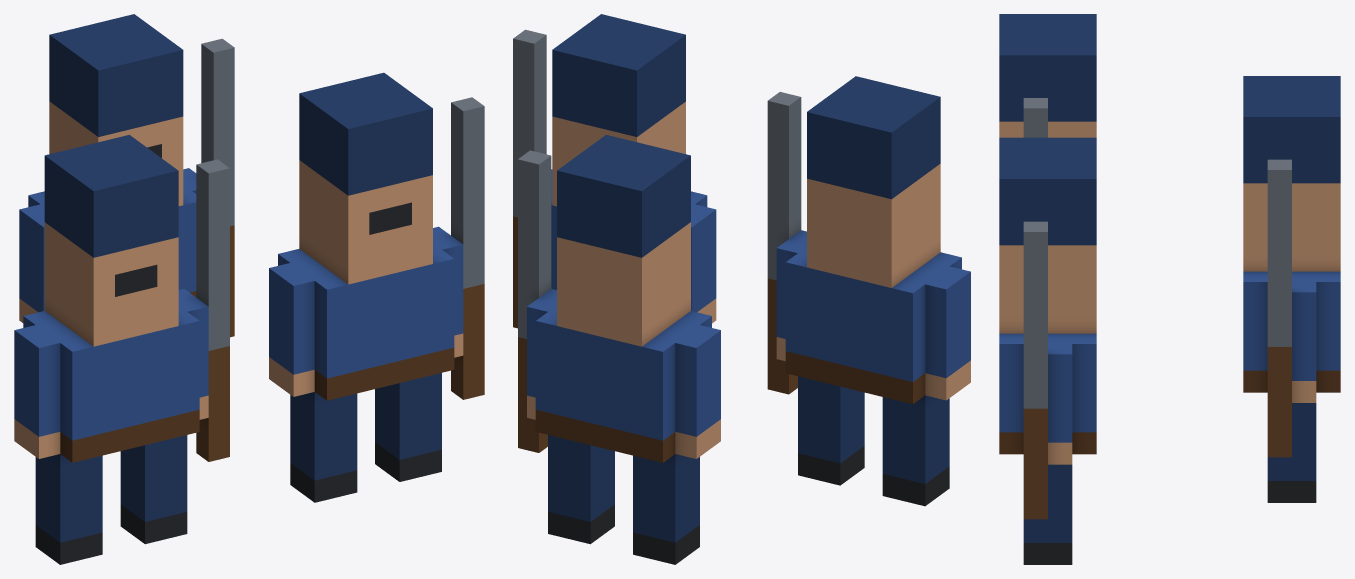
The model's file is u_rifle.glb.
3 views of the same model, side by side, from view 1: azimuth 30°, elevation 25°; view 2: azimuth 150°, elevation 25°; view 3: azimuth 270°, elevation 25° (orthographic).
Visible parts, largest first — view 1: u_rifle_body; view 2: u_rifle_body; view 3: u_rifle_body.
Boxes of the visible parts, box(x1,y1,x2,y2) form: u_rifle_body: box(14, 14, 484, 564); u_rifle_body: box(513, 14, 970, 564); u_rifle_body: box(999, 14, 1340, 564).
Bounding box in the file's own units: 1.31 × 1.06 × 0.875.
Materials: 1 (1 with a texture image).
